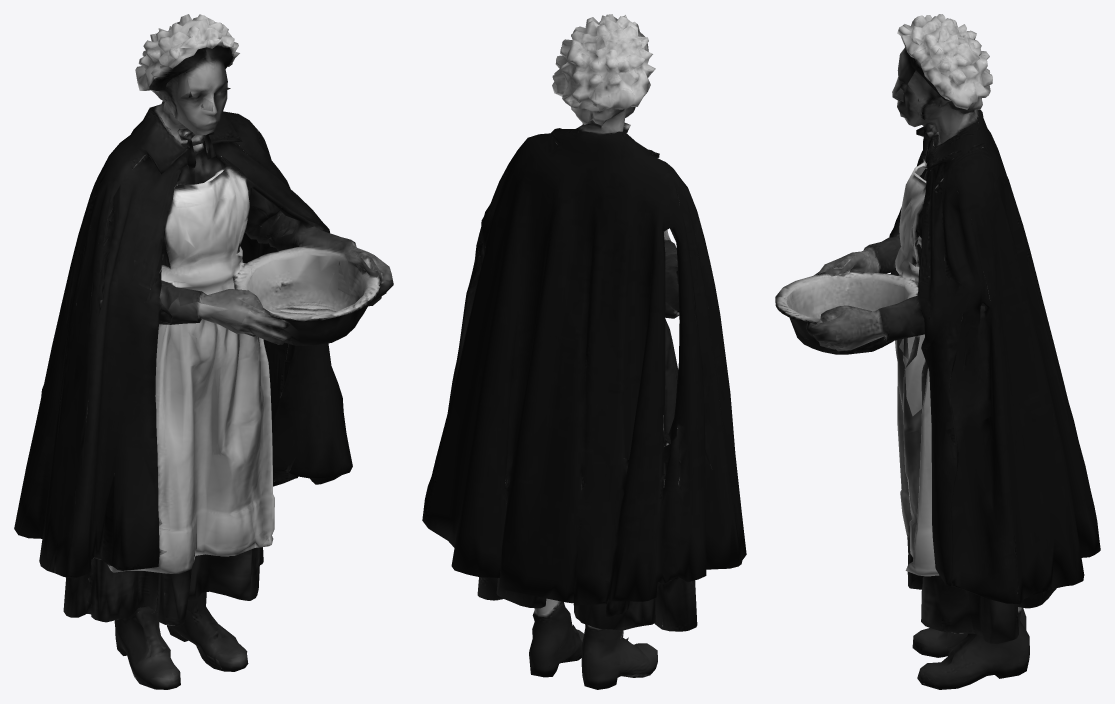
The model's file is ada_penrose_ghost.glb.
3 renders of one model, left to right at view 1: azimuth 30°, elevation 25°; view 2: azimuth 150°, elevation 25°; view 3: azimuth 270°, elevation 25°, orthographic. The views are drawn at different scales.
Visible parts, largest first — view 1: RETOPO; view 2: RETOPO; view 3: RETOPO.
Part boxes in pixels (x1,y1,x2,y2): RETOPO: (14, 14, 393, 689); RETOPO: (422, 14, 746, 689); RETOPO: (775, 14, 1100, 689).
Size of the model in its own units: 0.8094 by 1.65 by 0.7511.
Materials: 1 (1 with a texture image).
